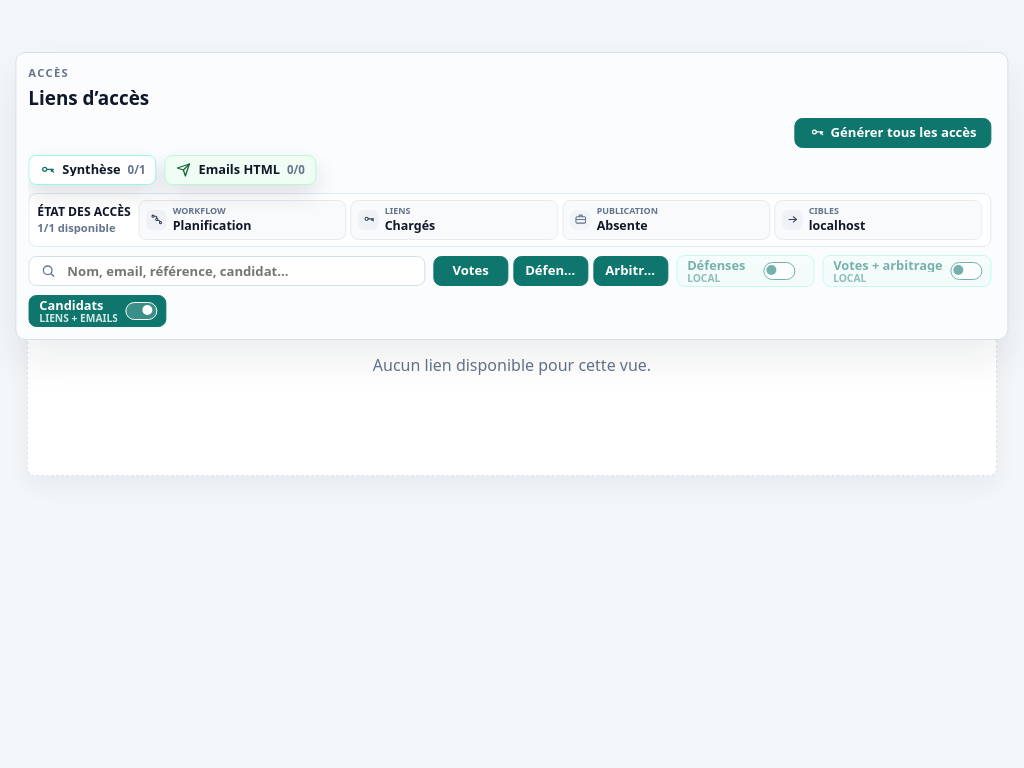
it: GenToken generation command › affiche l’historique admin des actions liens d’accès dans la synthèse
Click the button with aria-label "ouvrir la synthèse des accès".
click(92, 170)  # box [28, 155, 156, 185]
(page scrolled)
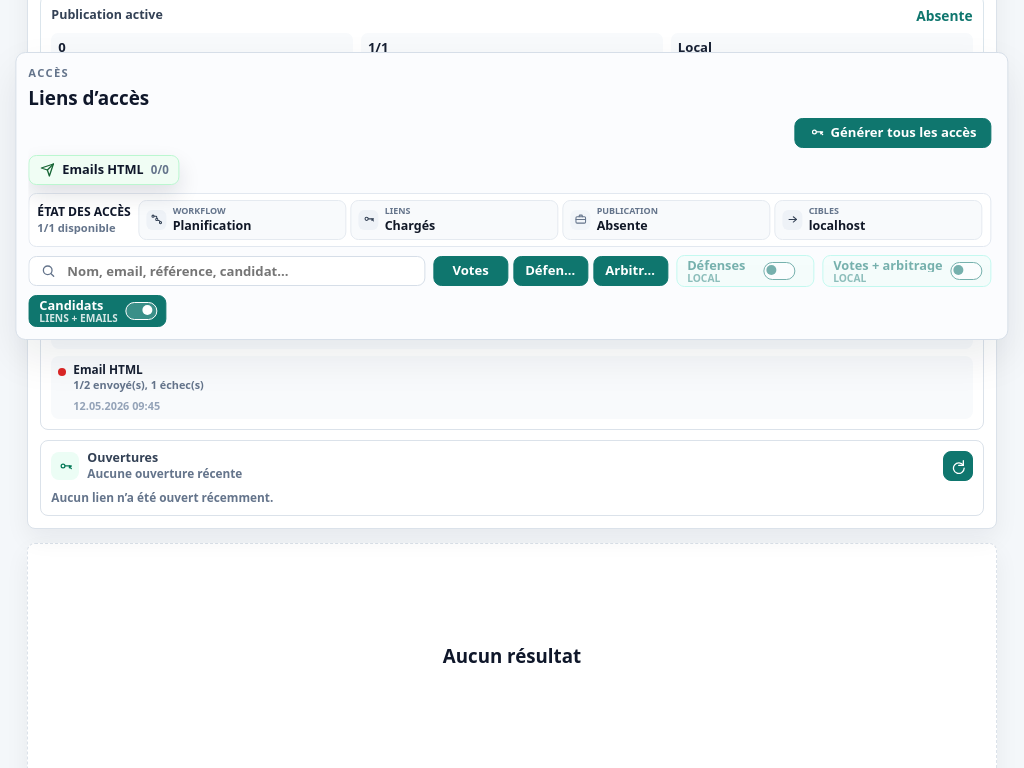
Expected: the heading "Historique" is shown, [87, 244, 153, 261]
Expected: the text "Email HTML" is shown, [73, 360, 143, 376]
Expected: the text "1/2 envoyé(s), 1 échec(s)" is shown, [73, 377, 204, 392]
